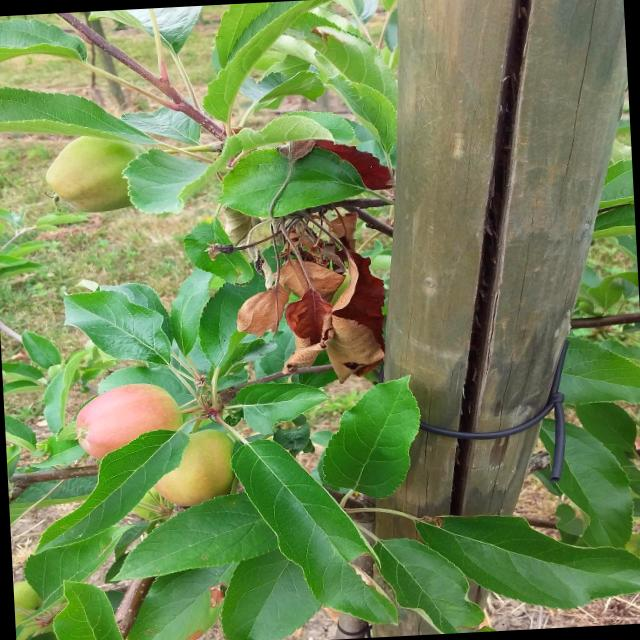-FireBlight-: (221, 118, 403, 378)
